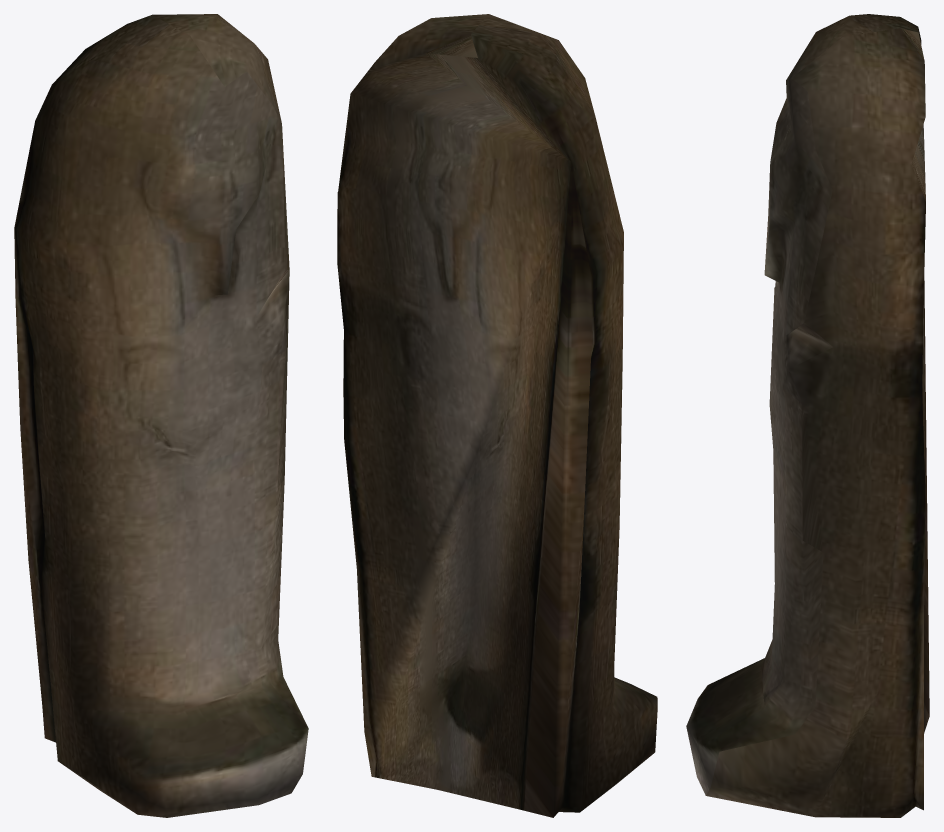
Rendered from PharaohTreasureNode.fbx.
3 views of the same model, side by side, from view 1: azimuth 30°, elevation 25°; view 2: azimuth 150°, elevation 25°; view 3: azimuth 270°, elevation 25° (orthographic). The views are drawn at different scales.
Visible parts, largest first — view 1: coff; view 2: coff; view 3: coff.
Part boxes in pixels (box(x1,y1,x2,y2)): coff: box(14, 14, 308, 817); coff: box(337, 14, 657, 817); coff: box(686, 14, 929, 817).
Bounding box in the file's own units: 38.21 × 105 × 30.75.
1 material, 1 textured.
